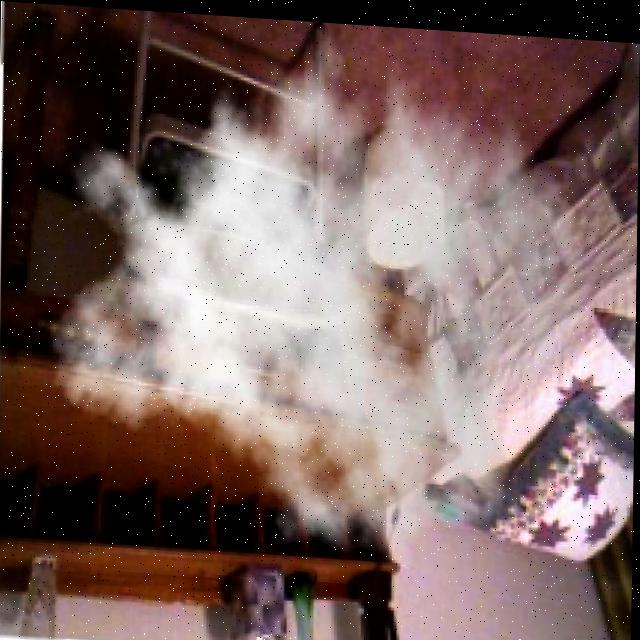Smoke: (44, 3, 588, 590)
